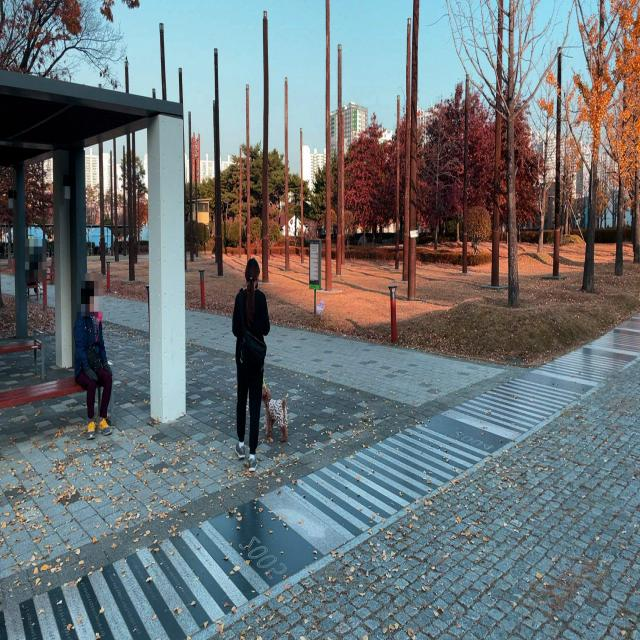Leashed_Dog: (250, 351, 289, 445)
